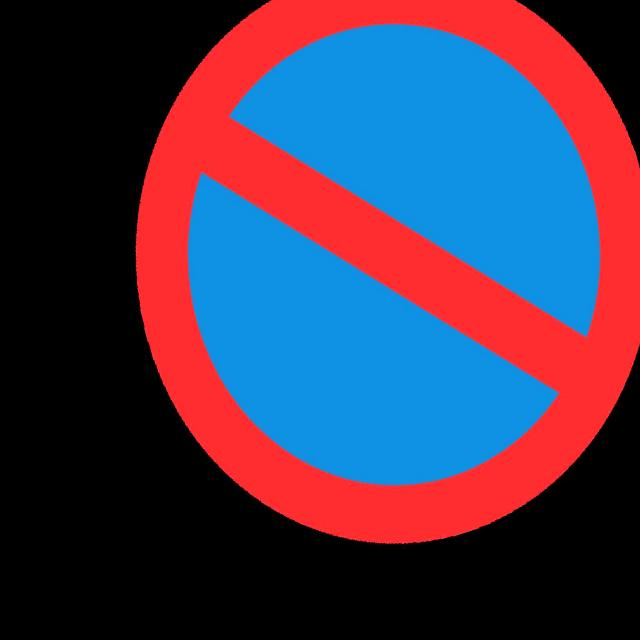forb_stopping: (134, 2, 640, 538)
